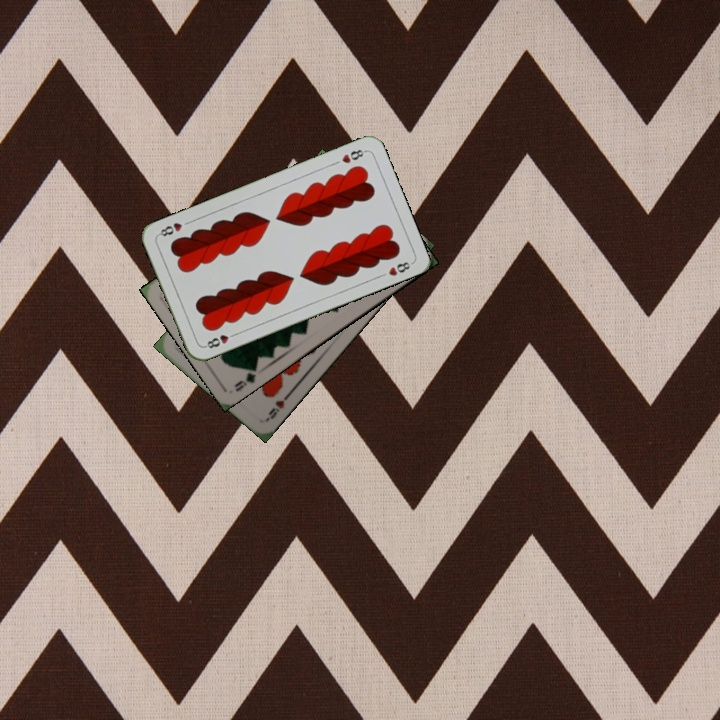G9: (231, 361, 260, 394)
H8: (200, 329, 239, 351), (337, 145, 369, 166)
H9: (262, 389, 293, 423)
